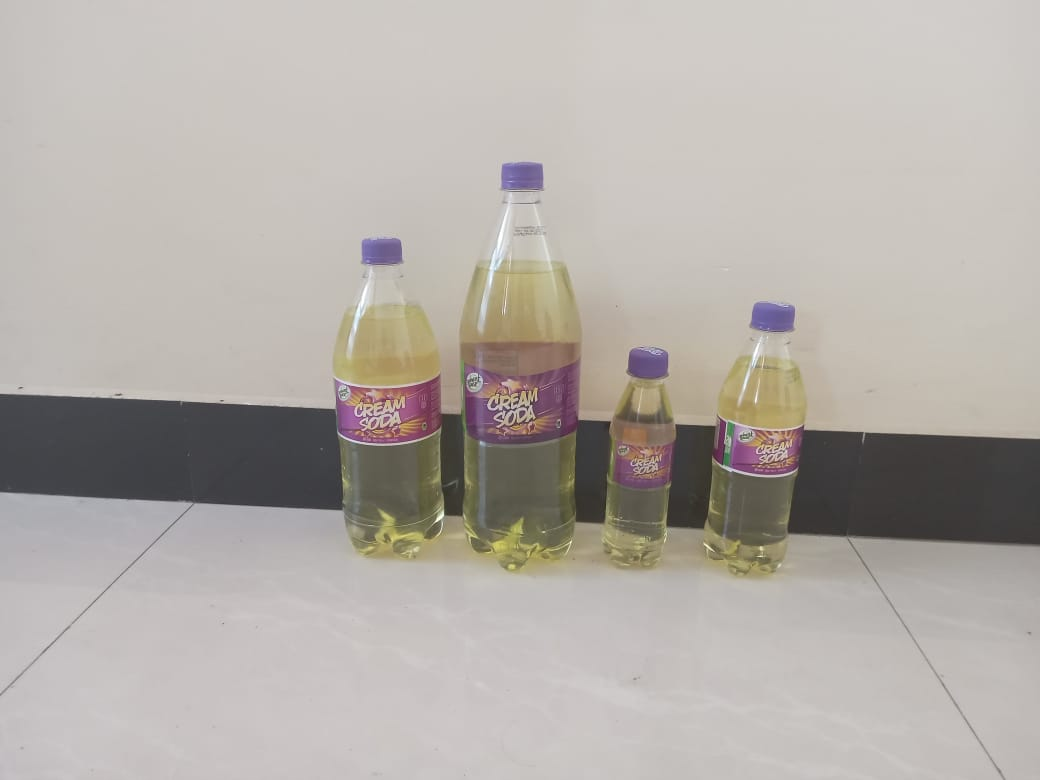L: (456, 155, 584, 570)
M: (329, 237, 443, 561)
S: (702, 301, 808, 579)
Xs: (600, 342, 671, 570)
